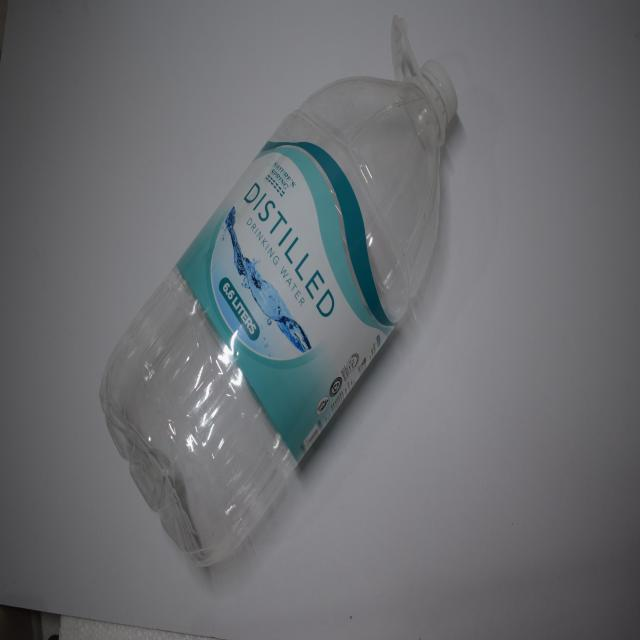empty: (100, 16, 457, 565)
